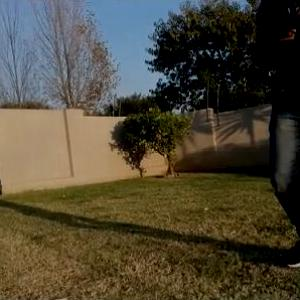follow: (250, 0, 299, 273)
